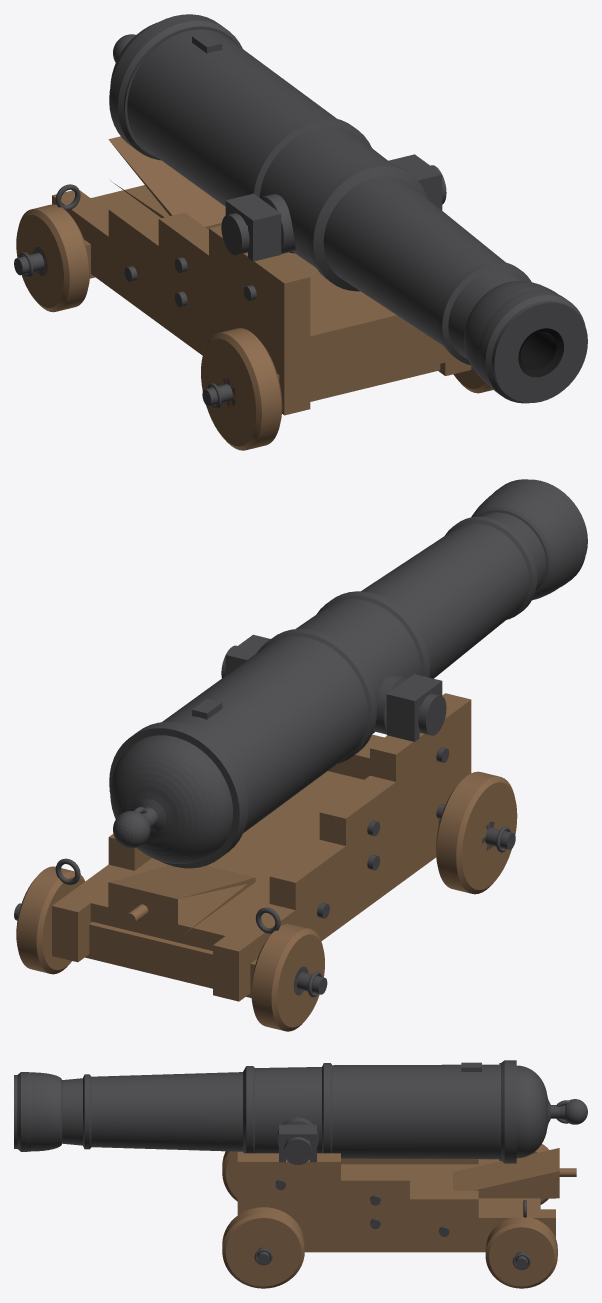
Rendered from english_naval_cannon_32pdr.glb.
3 views of the same model, one above another, from view 1: azimuth 30°, elevation 25°; view 2: azimuth 150°, elevation 25°; view 3: azimuth 270°, elevation 25° (orthographic). The views are drawn at different scales.
Parts seen in each view (by area): view 1: Barrel, Carriage; view 2: Carriage, Barrel; view 3: Barrel, Carriage.
Boxes of the visible parts, x1,y1,x2,y2 form: Barrel: (109,14,587,403); Carriage: (14,136,493,450); Carriage: (14,634,517,1031); Barrel: (109,479,587,868); Barrel: (14,1060,587,1164); Carriage: (222,1124,576,1288).
Bounding box in the file's own units: 1.4 × 1.16 × 3.33.
